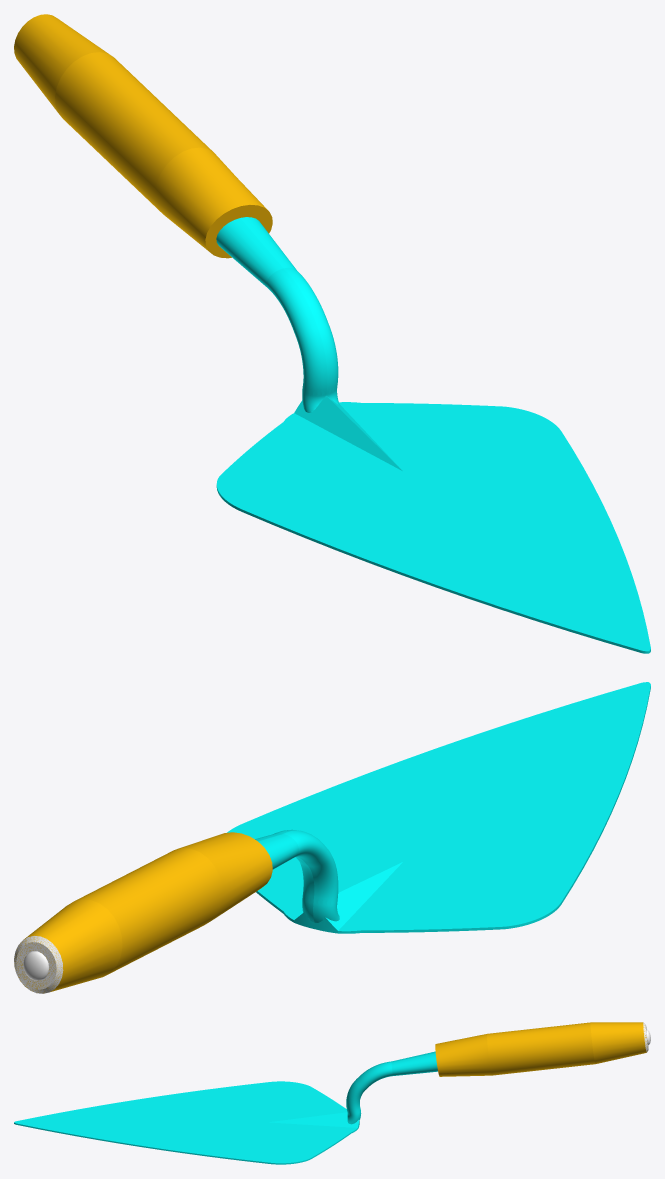
The model's file is trolha_ground_truth.dae.
3 views of the same model, one above another, from view 1: azimuth 30°, elevation 25°; view 2: azimuth 150°, elevation 25°; view 3: azimuth 270°, elevation 25° (orthographic). The views are drawn at different scales.
Visible parts, largest first — view 1: group_2 (×2), group_1; view 2: group_2 (×2), group_1, Group_3, sphere; view 3: group_2 (×2), group_1.
Boxes of the visible parts, <box> form: group_2 (×2): <box>216,217,650,653</box>; group_1: <box>14,14,272,258</box>; group_2 (×2): <box>227,682,650,933</box>; group_1: <box>23,832,272,991</box>; Group_3: <box>14,936,63,993</box>; sphere: <box>23,951,48,980</box>; group_2 (×2): <box>14,1051,437,1164</box>; group_1: <box>435,1022,646,1076</box>.
Bounding box in the file's own units: 209 × 685 × 119.
